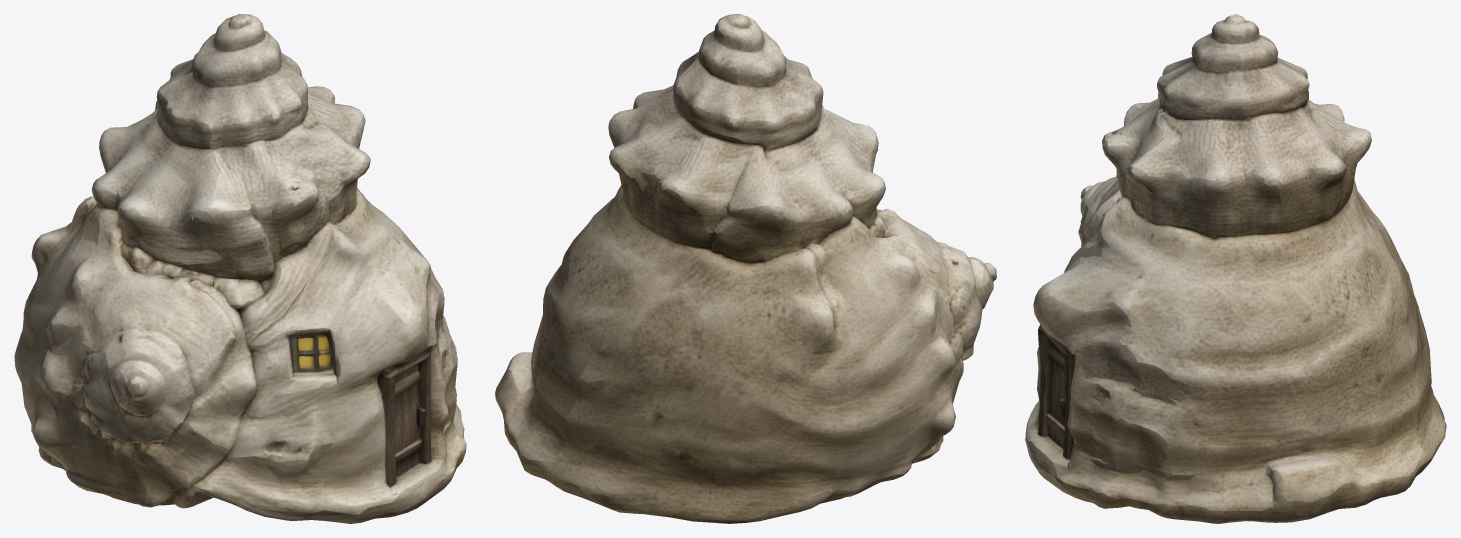
Rendered from lm_conch.glb.
The picture shows the model from 3 angles, left to right: view 1: azimuth 30°, elevation 25°; view 2: azimuth 150°, elevation 25°; view 3: azimuth 270°, elevation 25°; orthographic projection. The views are drawn at different scales.
Visible parts, largest first — view 1: world; view 2: world; view 3: world.
Boxes of the visible parts, x1=… form: world: x1=14, y1=14, x2=466, y2=523; world: x1=495, y1=14, x2=996, y2=523; world: x1=1025, y1=14, x2=1446, y2=523.
Bounding box in the file's own units: 20 × 20 × 17.9.
Materials: 1 (1 with a texture image).
